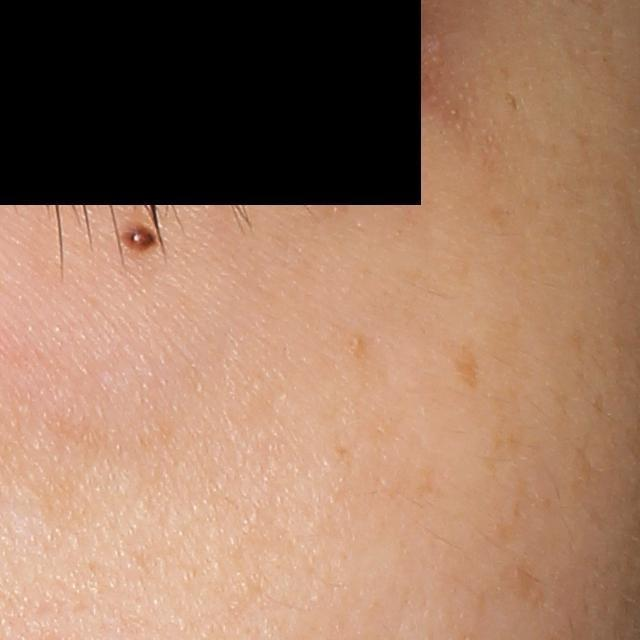melasma: (437, 335, 485, 393), (502, 90, 520, 114)
nevus: (121, 222, 159, 252)
